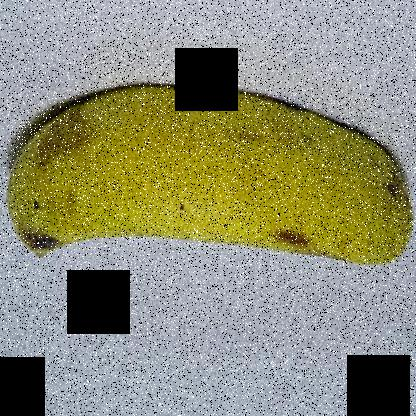freshripe: (1, 54, 415, 300)
